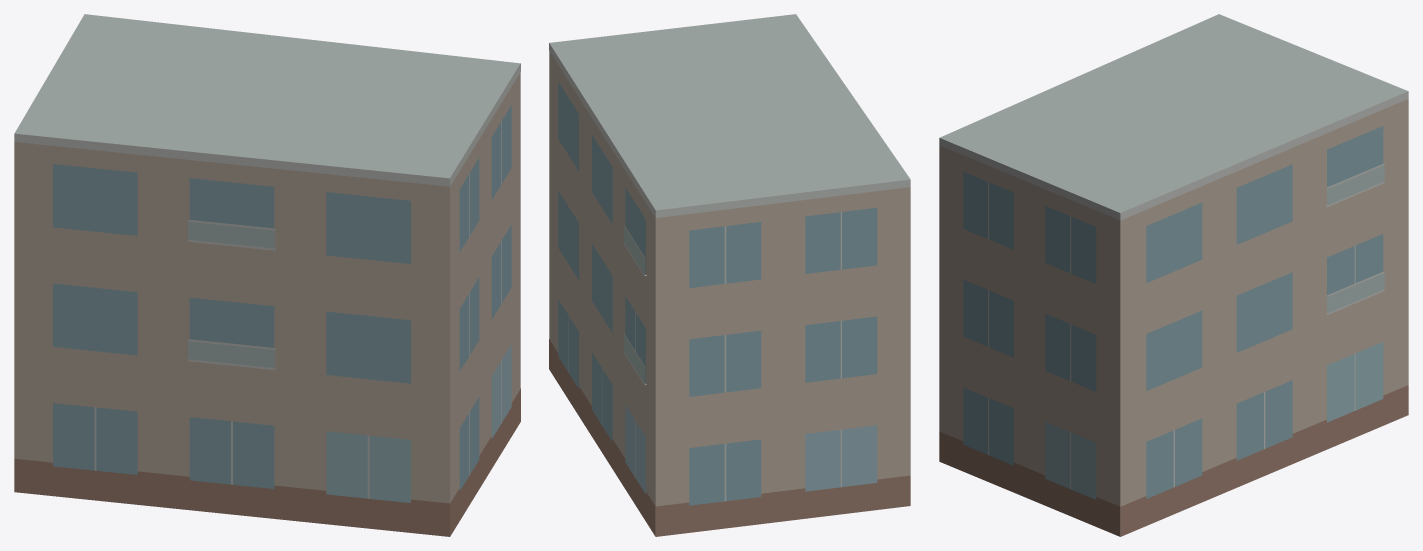
The model's file is survey-upis-32696002.glb.
3 views of the same model, side by side, from view 1: azimuth 30°, elevation 25°; view 2: azimuth 150°, elevation 25°; view 3: azimuth 270°, elevation 25° (orthographic). The views are drawn at different scales.
Visible parts, largest first — view 1: survey-upis-32696002.tmp; view 2: survey-upis-32696002.tmp; view 3: survey-upis-32696002.tmp.
Boxes of the visible parts, x1=… form: survey-upis-32696002.tmp: x1=14, y1=14, x2=520, y2=536; survey-upis-32696002.tmp: x1=549, y1=14, x2=910, y2=536; survey-upis-32696002.tmp: x1=939, y1=14, x2=1408, y2=536.
Bounding box in the file's own units: 13.85 × 10.5 × 13.8.
